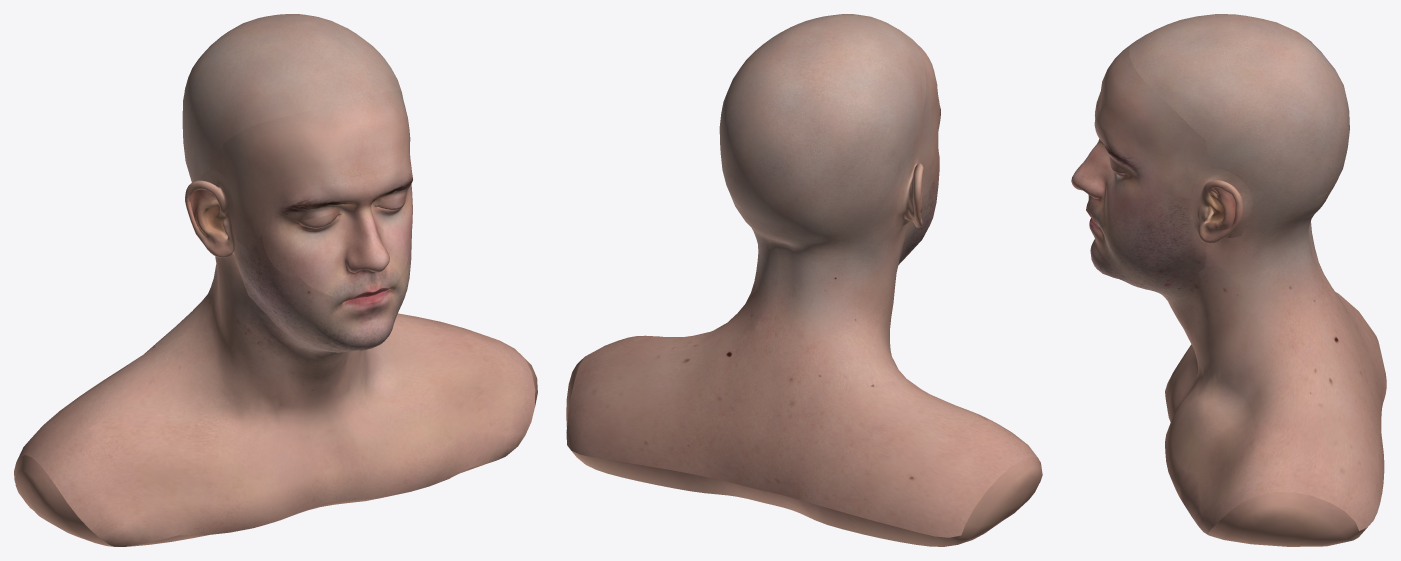
The model's file is leeperrysmith.fbx.
The picture shows the model from 3 angles, left to right: view 1: azimuth 30°, elevation 25°; view 2: azimuth 150°, elevation 25°; view 3: azimuth 270°, elevation 25°; orthographic projection. The views are drawn at different scales.
Parts seen in each view (by area): view 1: Group2, Group19, Group14, Group4, Group5, Group7, Group35; view 2: Group2, Group4, Group19, Group5, Group14; view 3: Group2, Group19, Group14, Group4, Group5, Group7.
Boxes of the visible parts, x1,y1,x2,y2 form: Group2: [17, 14, 535, 546]; Group19: [221, 90, 412, 301]; Group14: [234, 236, 411, 352]; Group4: [14, 353, 537, 546]; Group5: [185, 169, 236, 257]; Group7: [189, 189, 218, 236]; Group35: [298, 194, 406, 228]; Group2: [566, 14, 1037, 537]; Group4: [566, 357, 1042, 546]; Group19: [908, 36, 940, 196]; Group5: [895, 149, 923, 227]; Group14: [898, 165, 938, 264]; Group2: [1129, 14, 1386, 534]; Group19: [1071, 44, 1210, 228]; Group14: [1089, 201, 1207, 291]; Group4: [1208, 492, 1367, 546]; Group5: [1192, 168, 1252, 243]; Group7: [1210, 187, 1235, 230].
Size of the model in its own units: 0.4533 by 0.4211 by 0.2746.
1 material, 1 textured.
